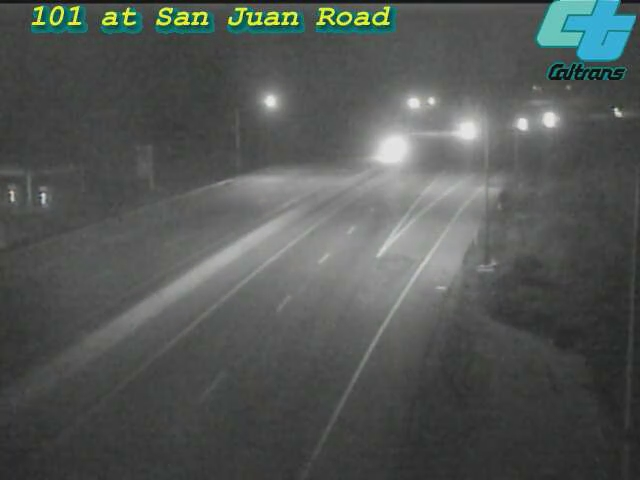vehicle: (370, 121, 420, 171), (447, 106, 497, 156), (500, 99, 550, 149), (526, 94, 576, 144), (592, 89, 640, 139)
